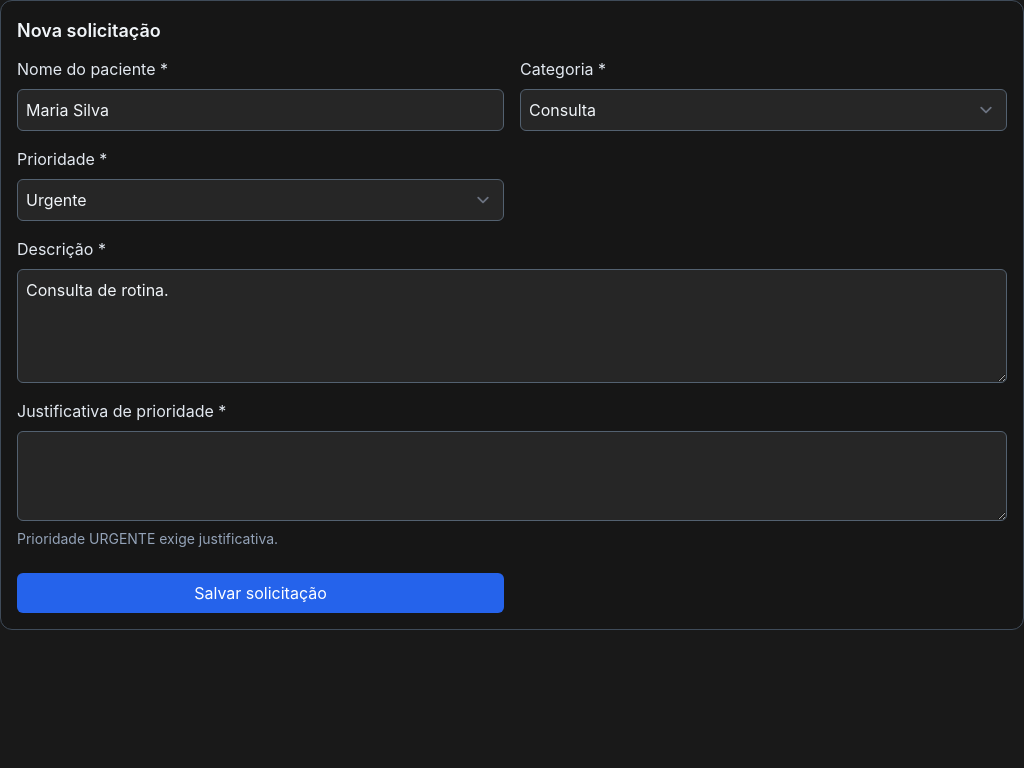
Scenario: AppointmentRequest › exige justificativa quando a prioridade é urgente
Click the button "Salvar solicitação" at (260, 593), box [17,573,504,613]
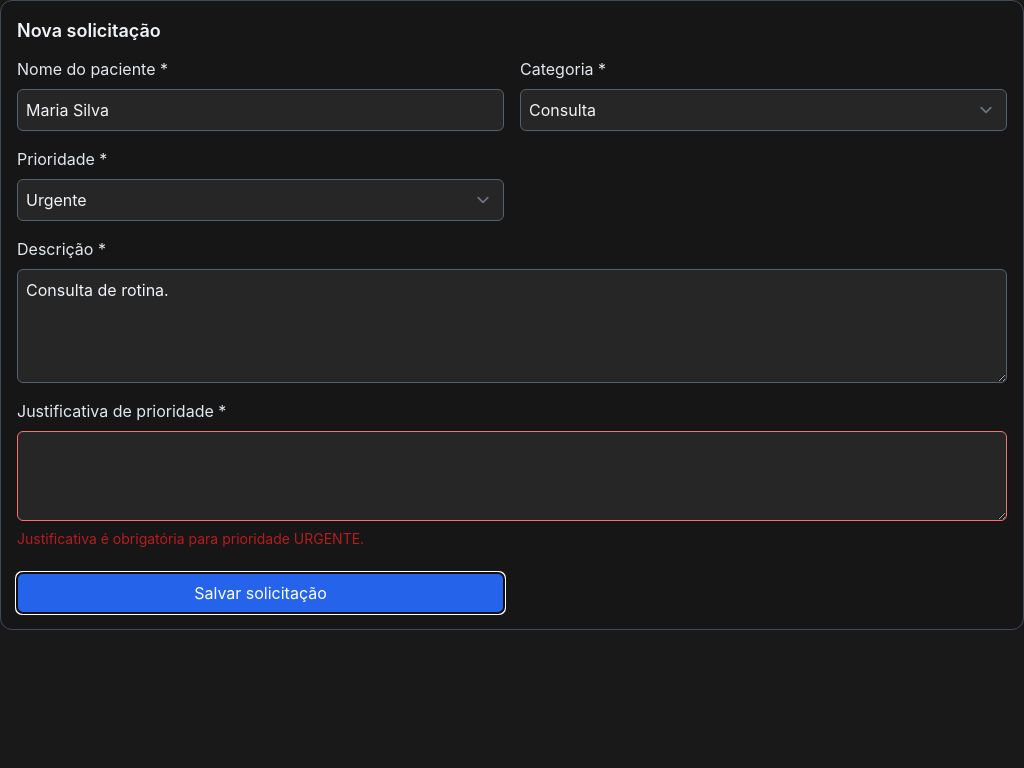
Expected: the text "Justificativa é obrigatória para prioridade URGENTE." is shown, [17,530,364,547]
